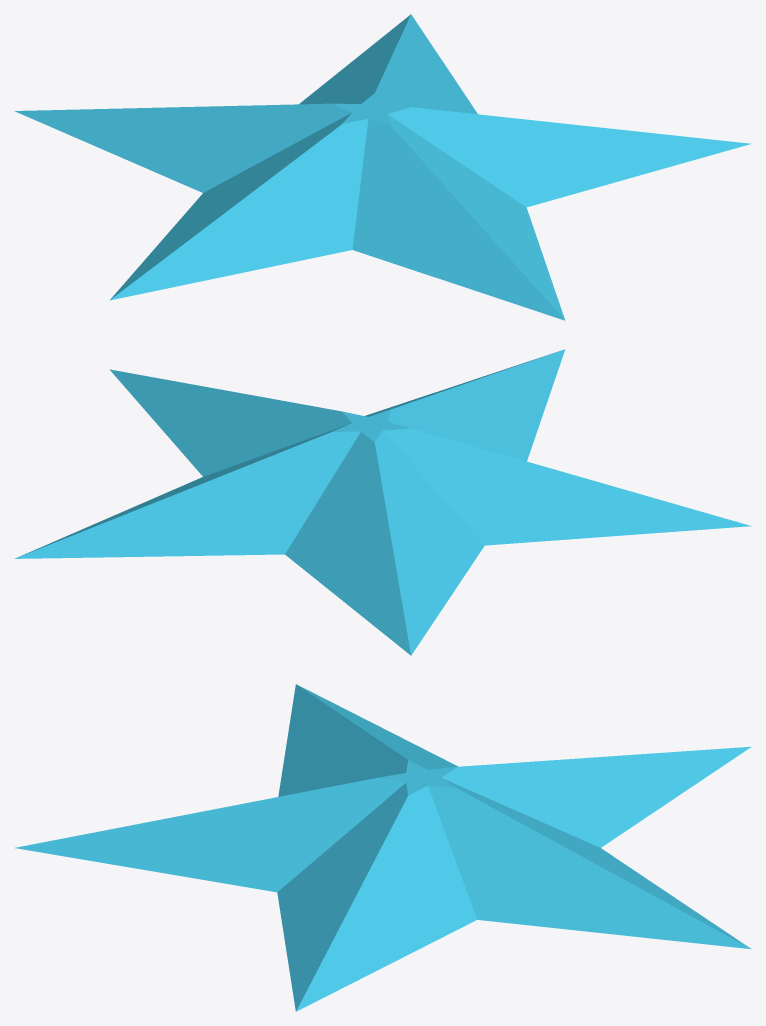
File: Blue Starfish.fbx
3 views of the same model, one above another, from view 1: azimuth 30°, elevation 25°; view 2: azimuth 150°, elevation 25°; view 3: azimuth 270°, elevation 25° (orthographic). The views are drawn at different scales.
Parts seen in each view (by area): view 1: Circle; view 2: Circle; view 3: Circle.
Boxes of the visible parts, box(x1,y1,x2,y2) form: Circle: box(14, 14, 751, 320); Circle: box(14, 349, 751, 655); Circle: box(15, 684, 751, 1011).
Bounding box in the file's own units: 434 × 43.32 × 413.
